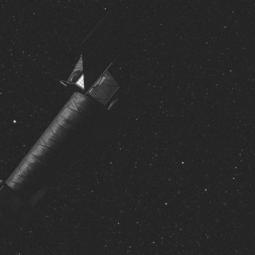xmm_newton: (0, 19, 136, 236)
